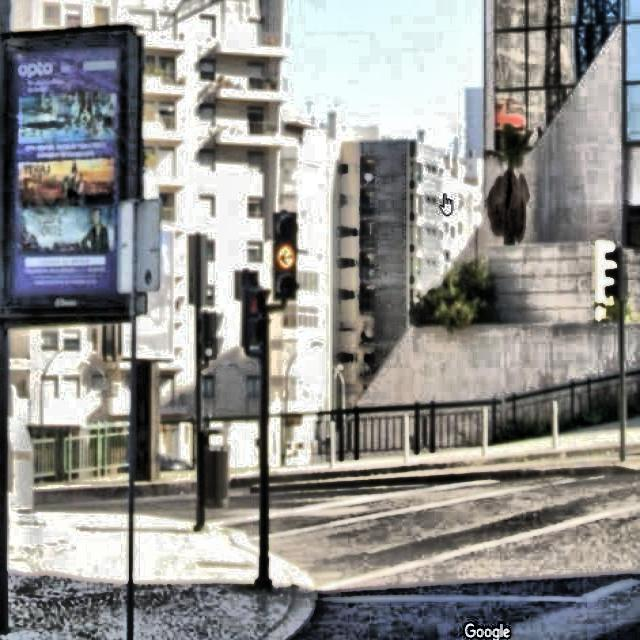yellow: (274, 212, 297, 301)
